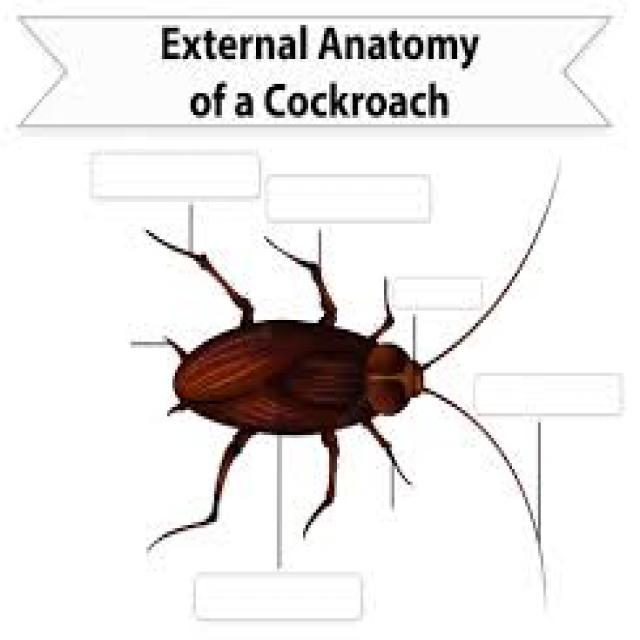Cockroach: (118, 154, 569, 563)
